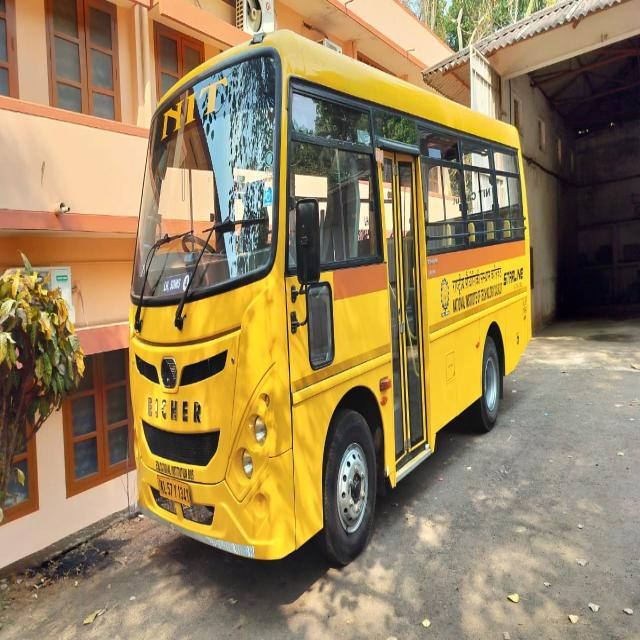bus ahead at: (120, 24, 530, 574)
